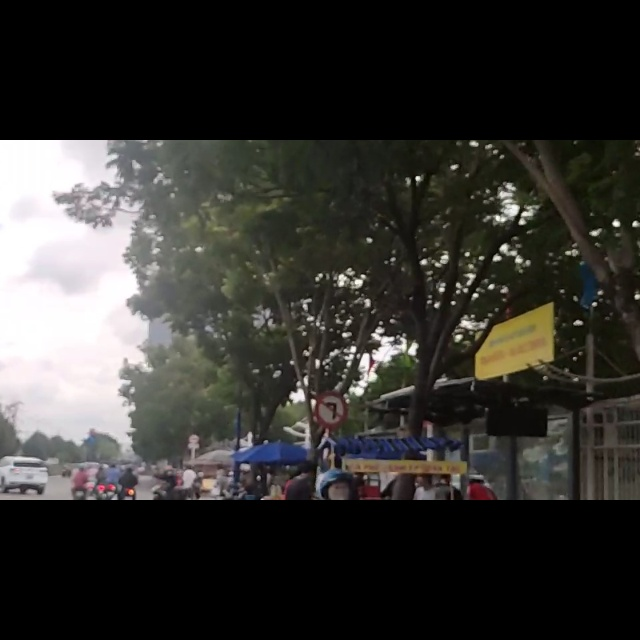bien_hieu_lenh: (314, 452, 347, 511)
